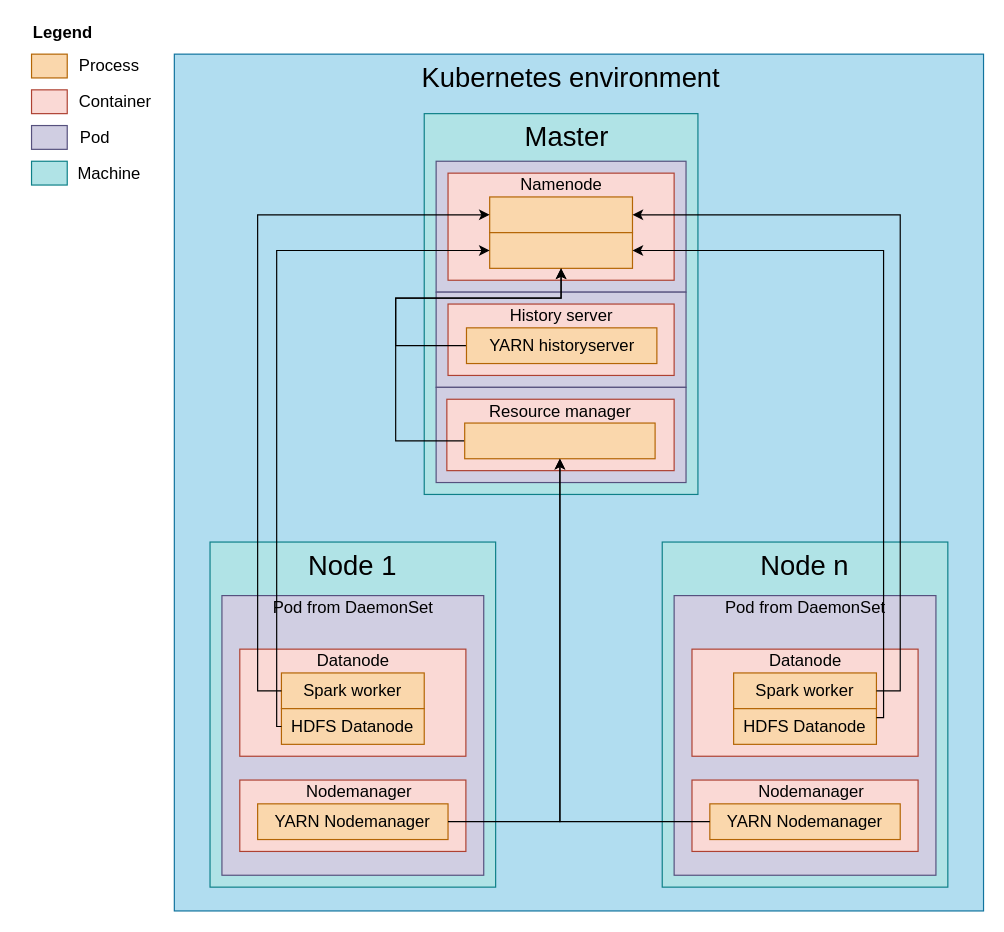
Image size: 1004x932. Some labels were removed from this diagram. Here are the shapes that lost their labels. From the top down, the centre of each, then its label:
(560,214): Spark master
(560,249): HDFS Namenode
(559,440): YARN resourcemanager
